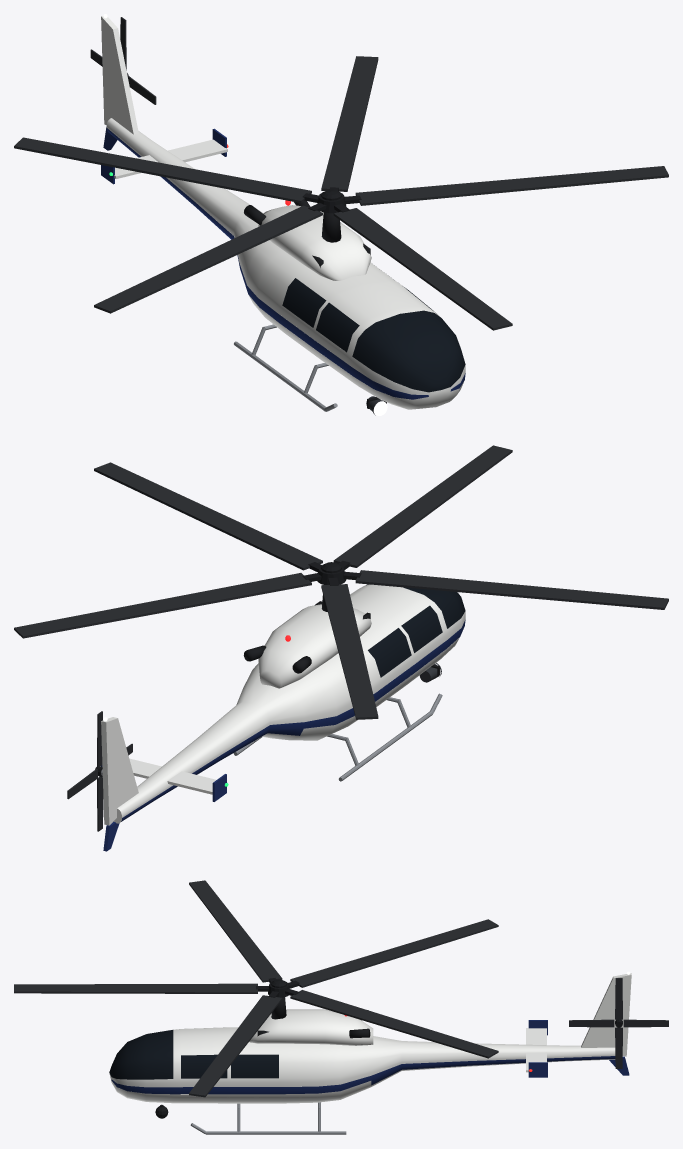
The model's file is police_heli.glb.
3 renders of one model, top to bottom at view 1: azimuth 30°, elevation 25°; view 2: azimuth 150°, elevation 25°; view 3: azimuth 270°, elevation 25°, orthographic. The views are drawn at different scales.
Parts seen in each view (by area): view 1: Body, MainRotor, TailRotor; view 2: Body, MainRotor, TailRotor; view 3: Body, MainRotor, TailRotor.
Boxes of the visible parts, bbox=[...] form: Body: bbox=[101, 14, 465, 411]; MainRotor: bbox=[14, 56, 668, 330]; TailRotor: bbox=[90, 17, 156, 104]; Body: bbox=[101, 584, 465, 851]; MainRotor: bbox=[14, 445, 668, 719]; TailRotor: bbox=[67, 711, 132, 831]; Body: bbox=[109, 971, 631, 1134]; MainRotor: bbox=[14, 880, 498, 1097]; TailRotor: bbox=[569, 978, 668, 1068].
Bounding box in the file's own units: 13.26 × 4.11 × 17.05.
